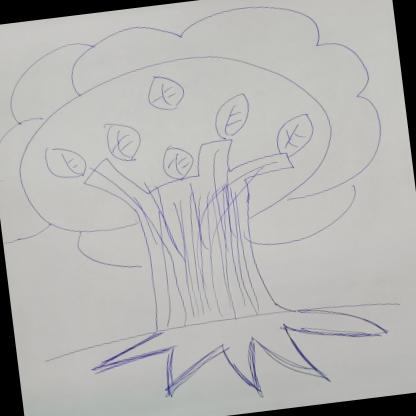branch_cut: (79, 130, 297, 218)
crown_cloud: (0, 0, 394, 283)
root_under: (85, 288, 394, 416)
trunk_bark: (141, 220, 279, 316)
